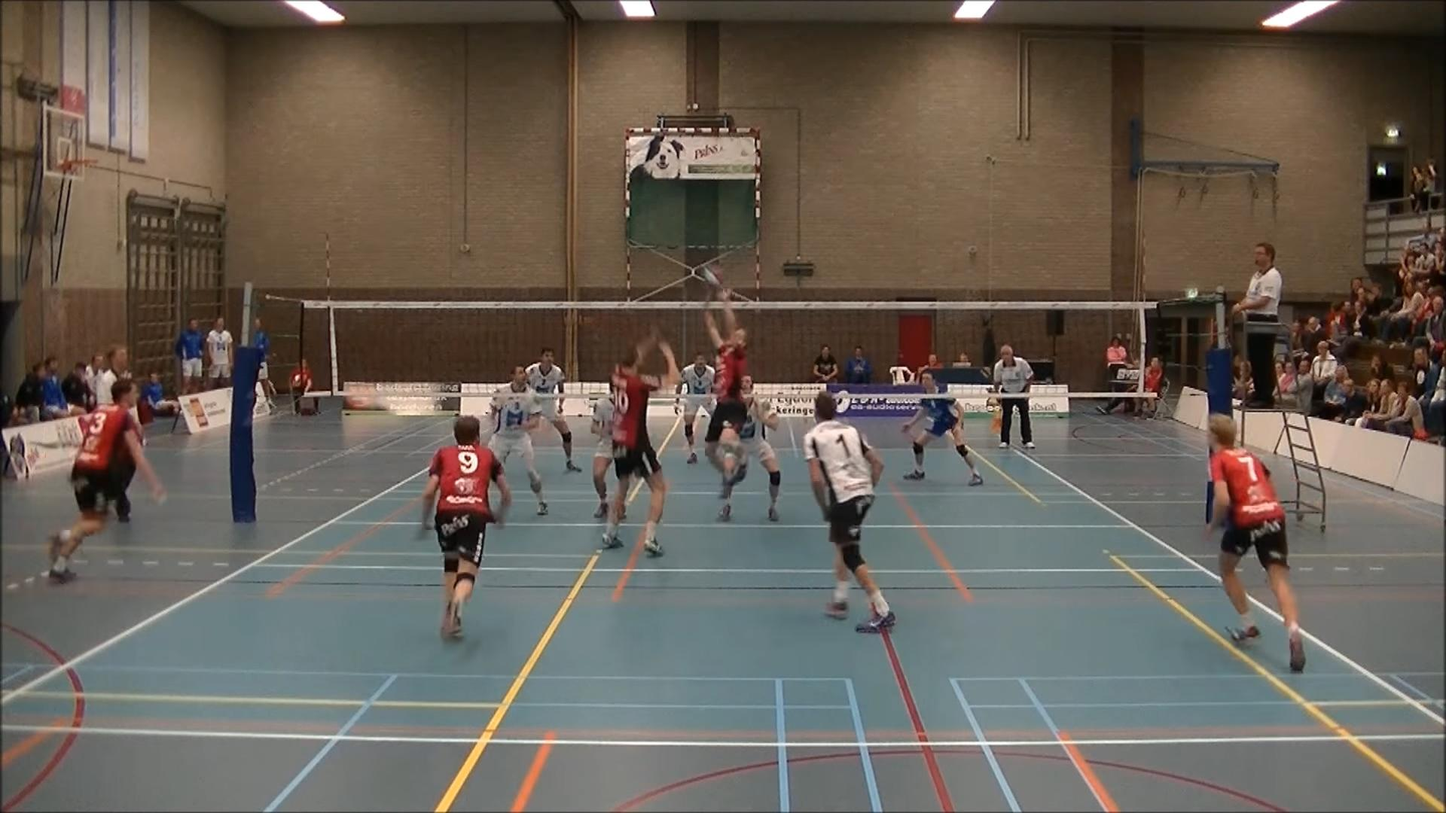alzata: (698, 290, 758, 490)
